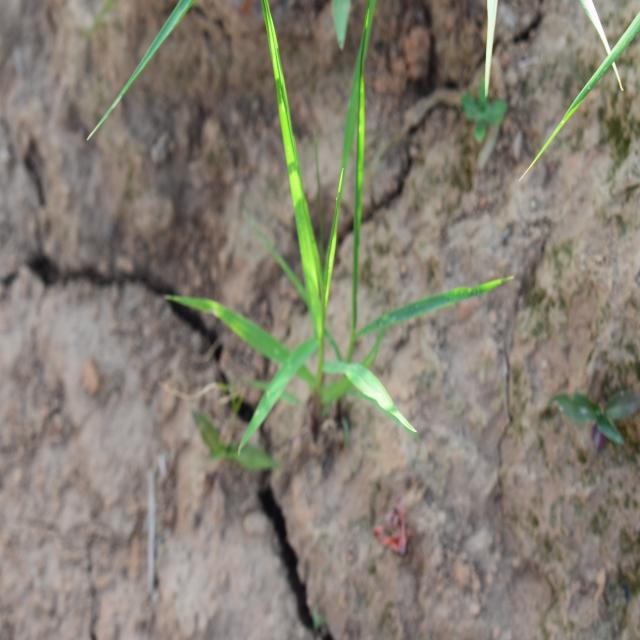green_foxtail: (246, 98, 404, 452)
